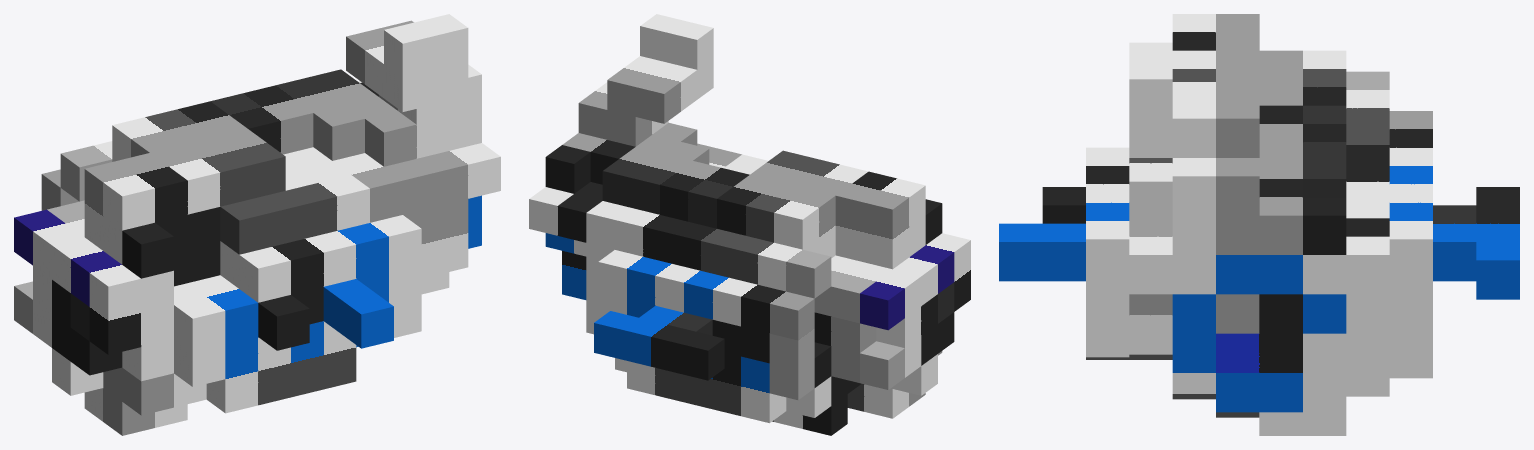
The model's file is brokenspaceship.dae.
3 renders of one model, left to right at view 1: azimuth 30°, elevation 25°; view 2: azimuth 150°, elevation 25°; view 3: azimuth 270°, elevation 25°, orthographic. The views are drawn at different scales.
Parts seen in each view (by area): view 1: spaceship_1; view 2: spaceship_1; view 3: spaceship_1.
Part boxes in pixels (box(x1,y1,x2,y2)): spaceship_1: box(14, 14, 500, 435); spaceship_1: box(529, 14, 970, 435); spaceship_1: box(999, 14, 1519, 435).
Bounding box in the file's own units: 12 × 10 × 12.
